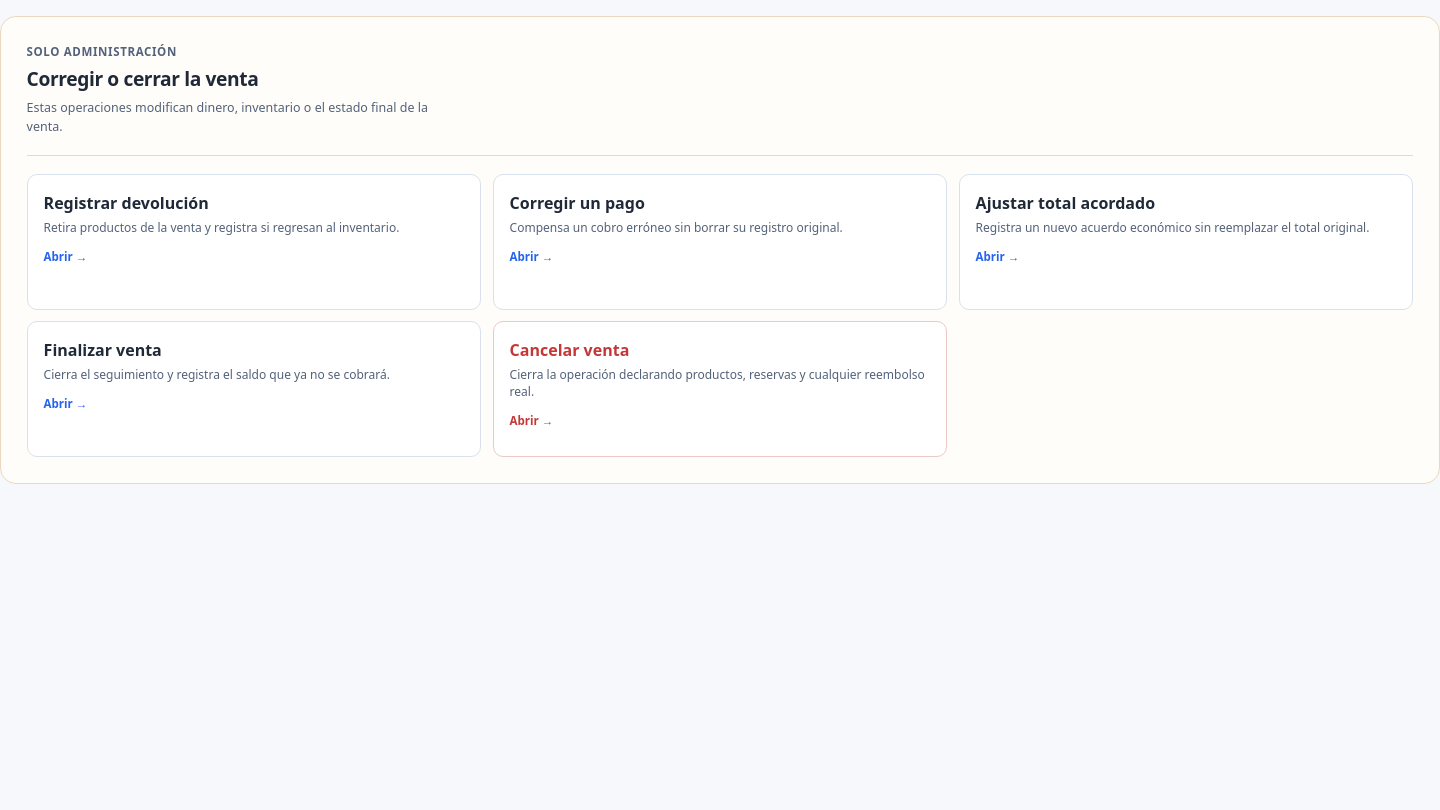
Test case: sale administration › registers a return without refund when the remaining payment is below the new total
This screenshot has width=1440, height=810.
Click the button "Registrar devolución".
click(126, 203)  # box [27,174,481,310]
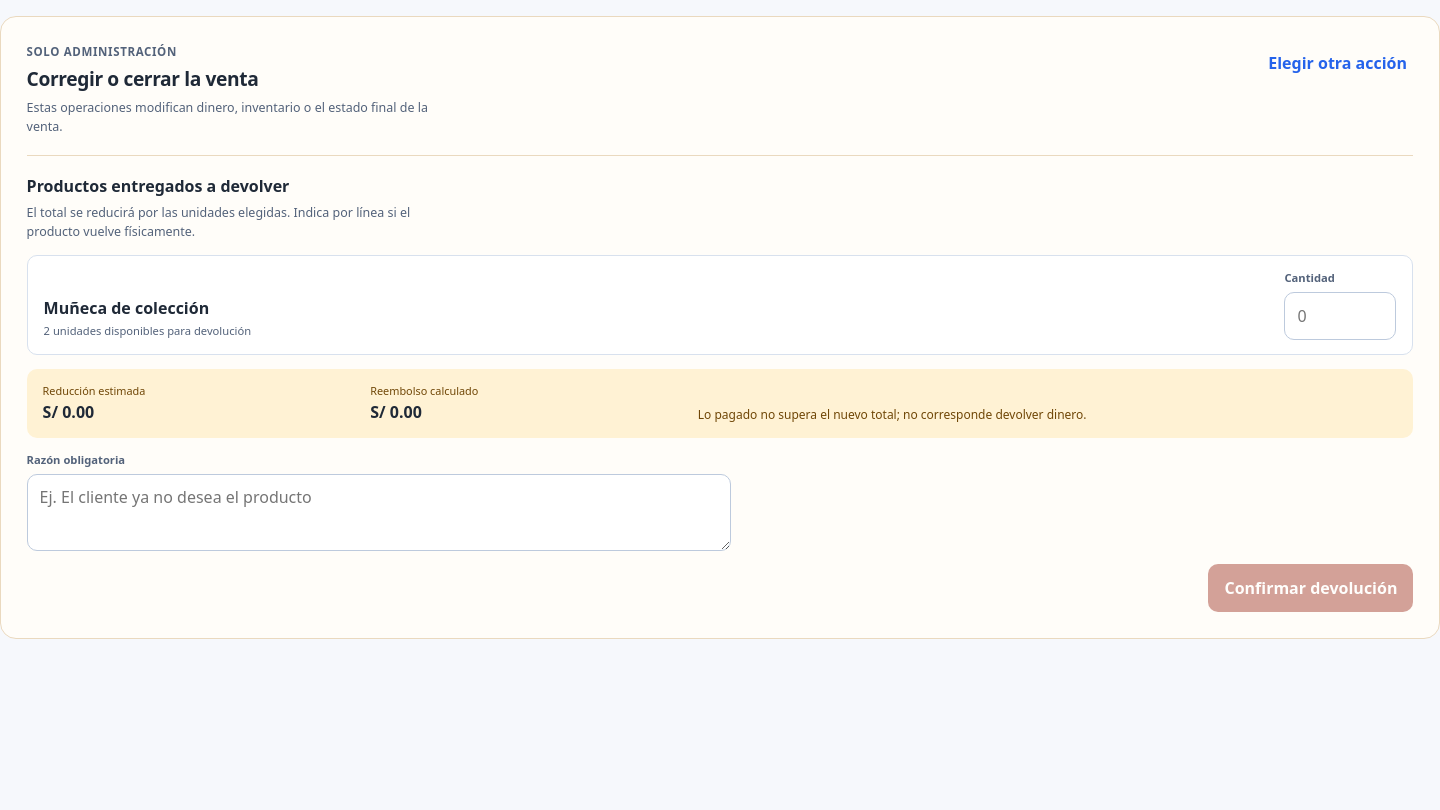
Type "1" into the number field named "Cantidad a devolver de Muñeca de colección".
click(1340, 316); type("1")  # box [1284,292,1396,340]
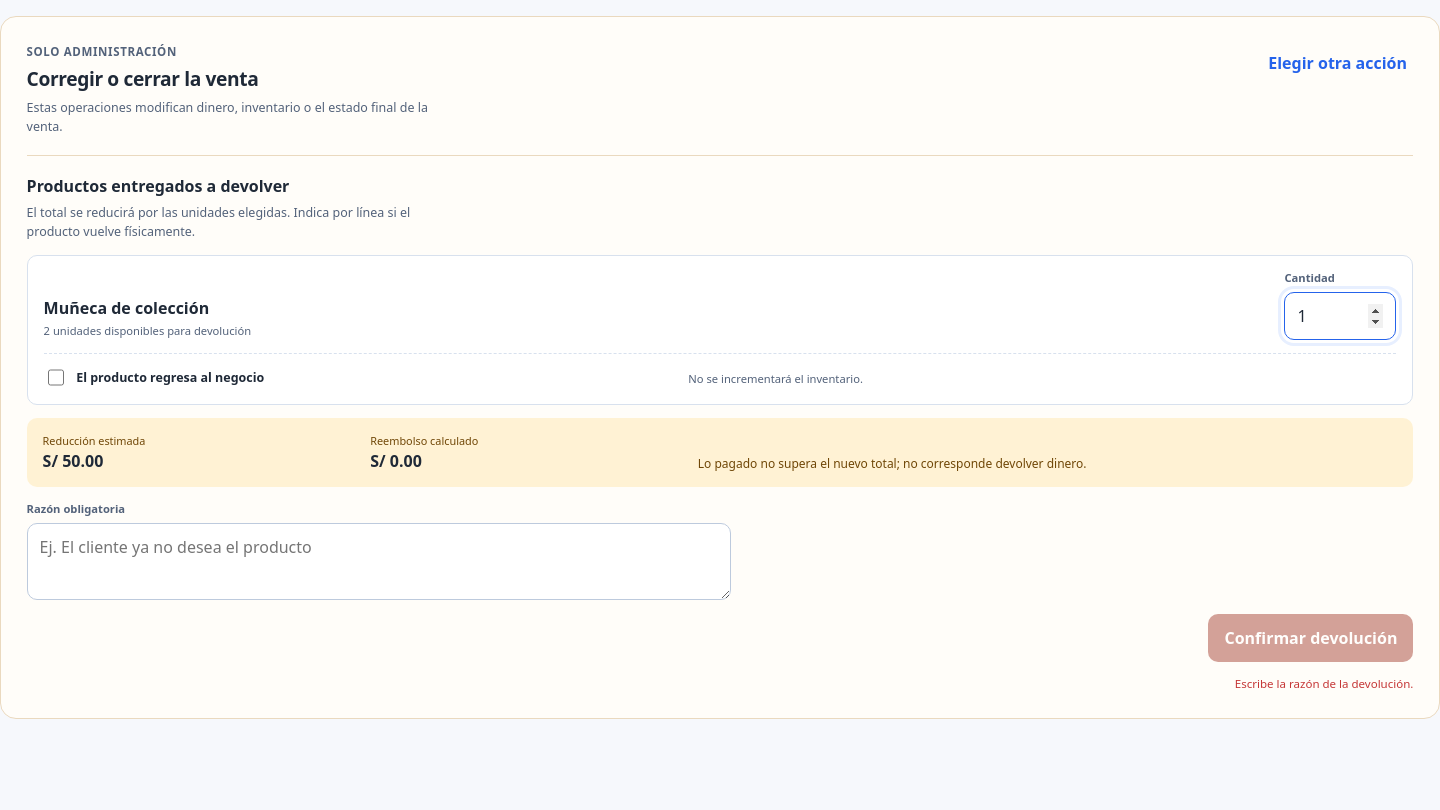
Type "El cliente cambió de opinión" into the text box labelled "Razón obligatoria".
click(379, 562); type("El cliente cambió de opinión")  # box [27,523,731,600]
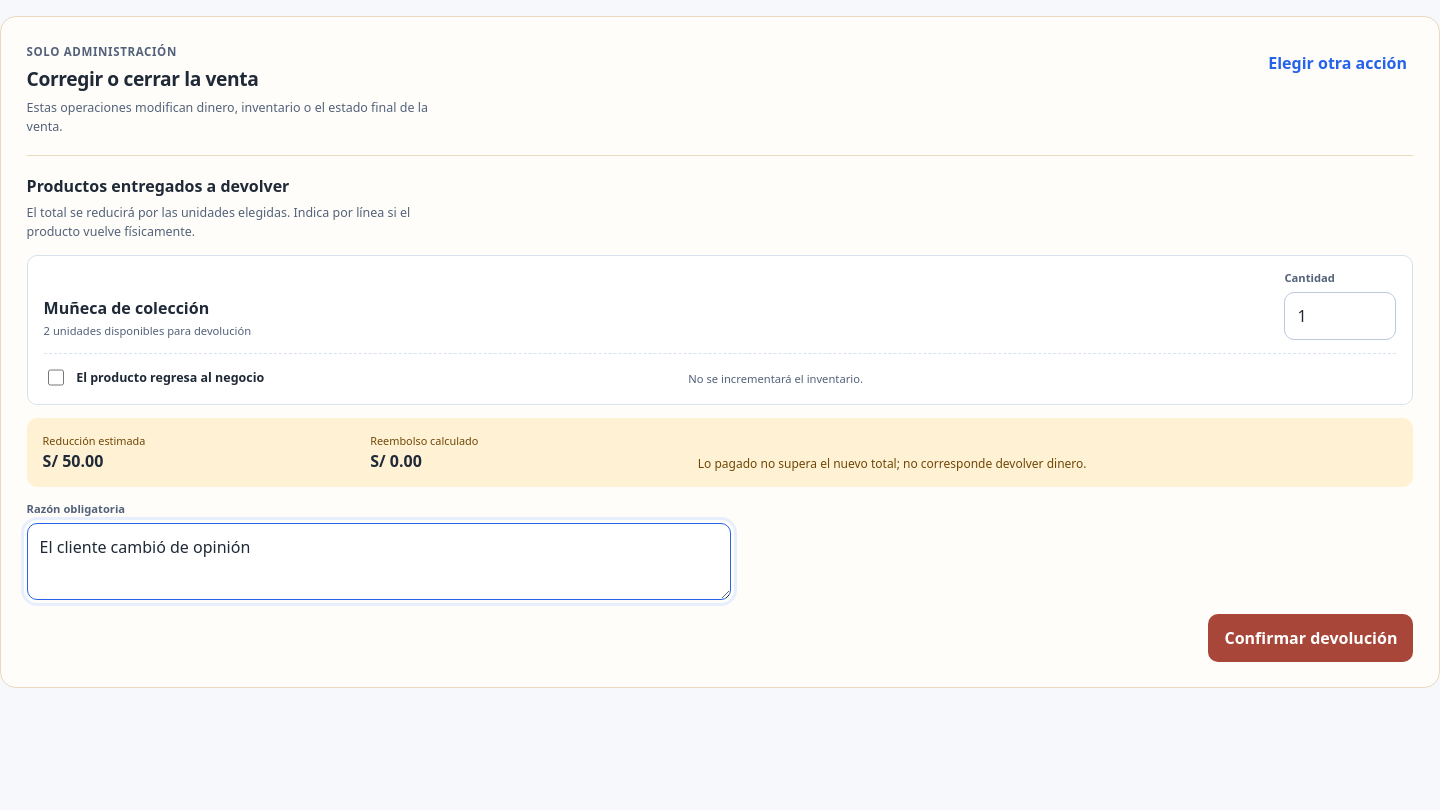
Expected: the text "Lo pagado no supera el nuevo total; no corresponde devolver dinero." is shown, [698,455,1086,472]
Click the button "Confirmar devolución".
click(1311, 638)  # box [1208,614,1413,662]
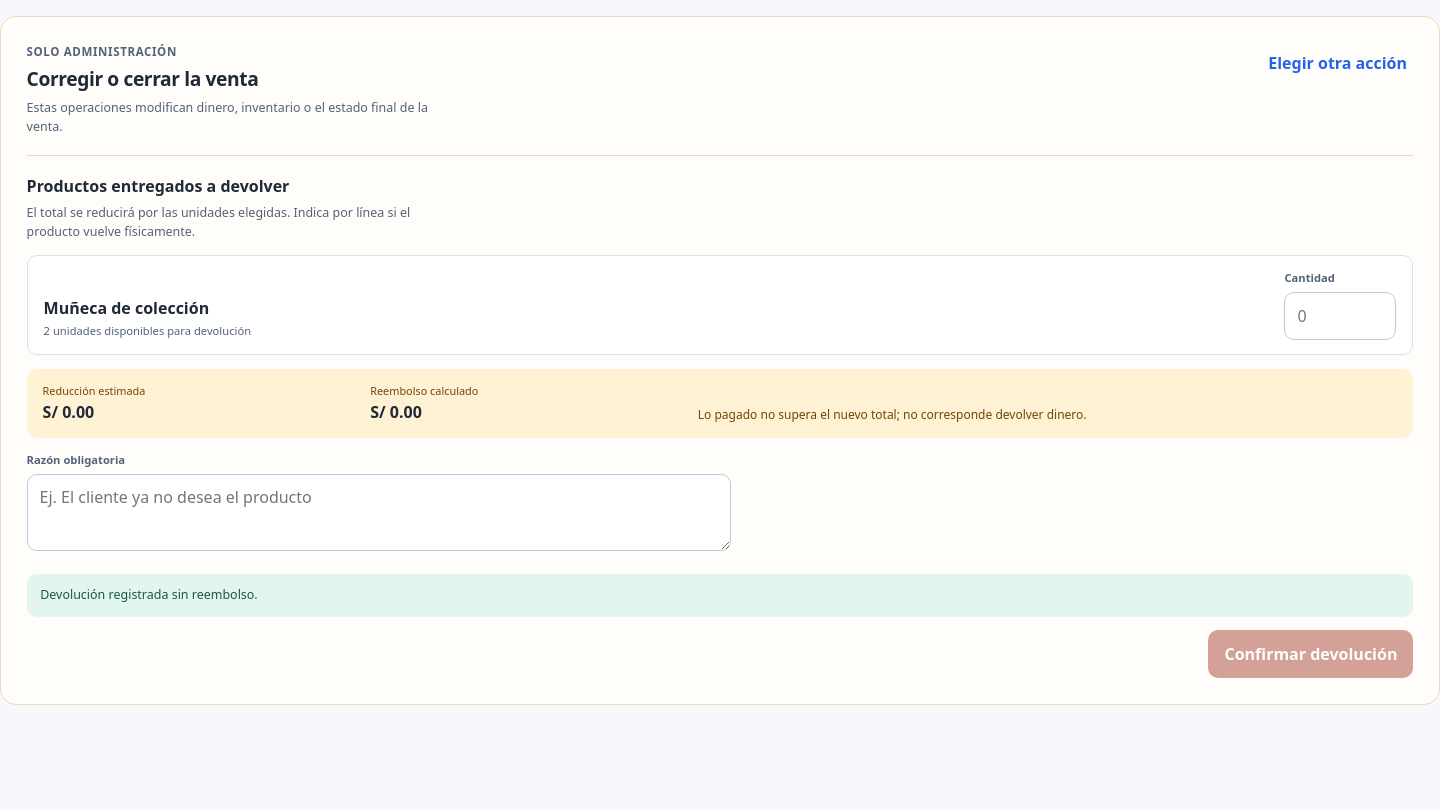
Expected: the text "Devolución registrada sin reembolso." is shown, [27,574,1413,617]
